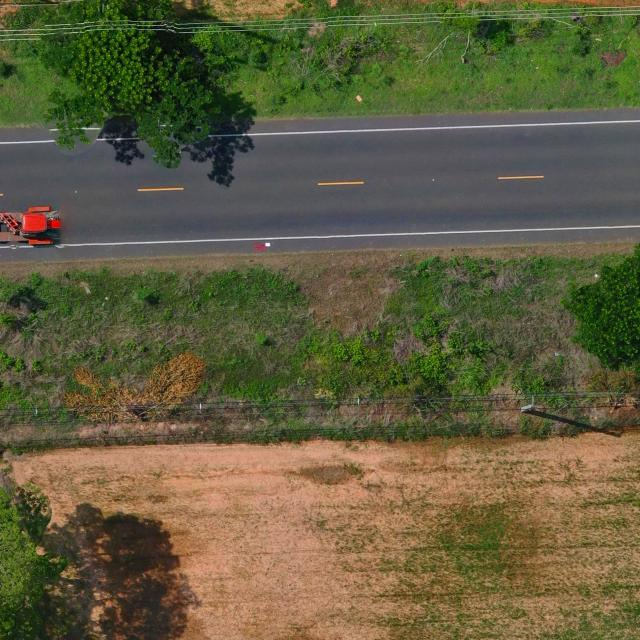Tree: (39, 0, 216, 170), (0, 482, 69, 640), (563, 240, 640, 374)
